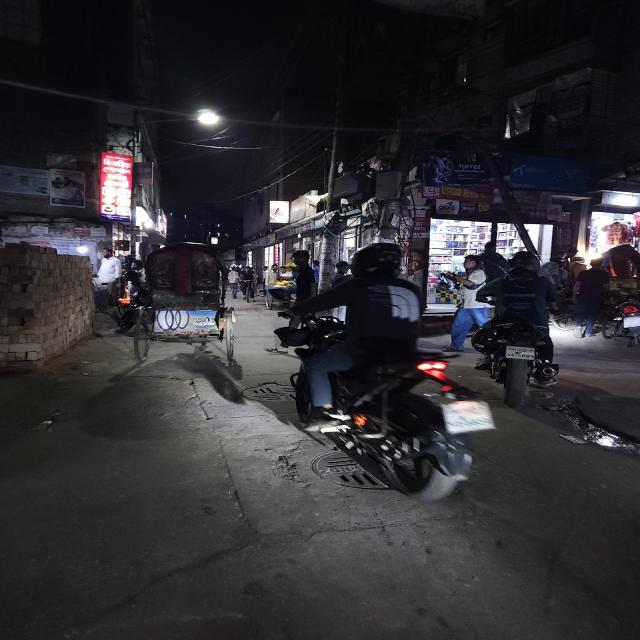motorcycle: (273, 255, 499, 509), (476, 259, 565, 397)
rickshaw: (130, 239, 240, 365)
